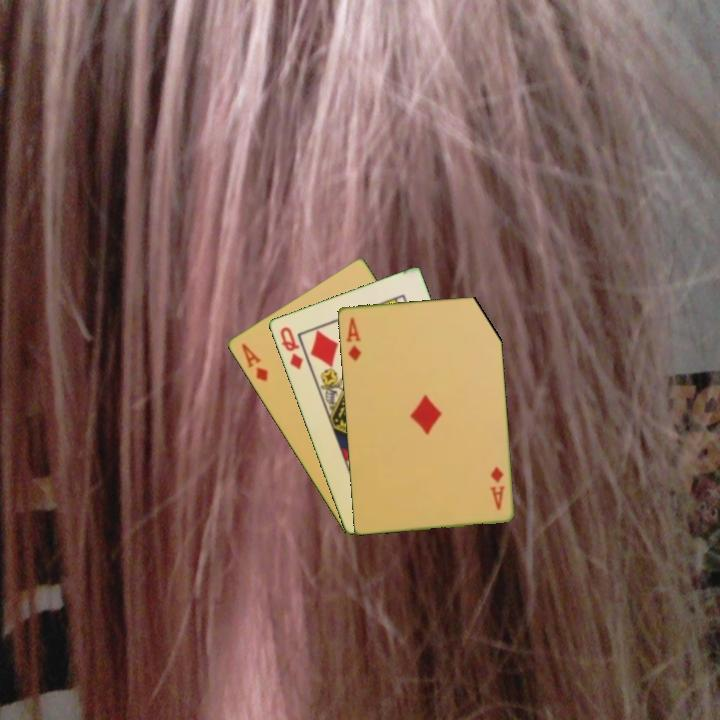Ad: (237, 340, 271, 384), (342, 314, 364, 364), (486, 463, 507, 512)
Qd: (276, 323, 306, 373)
